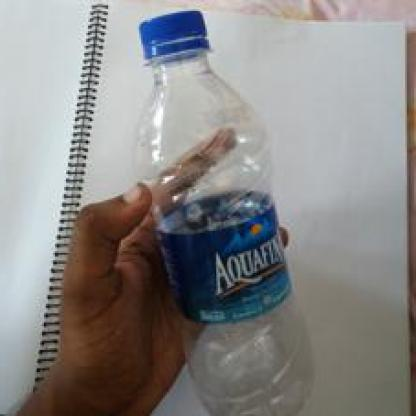bottle: (117, 4, 339, 414)
